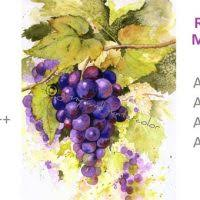Black grapes: (53, 68, 114, 179)
